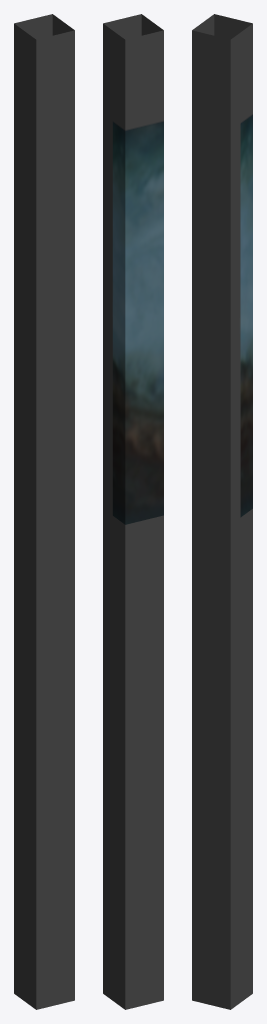
File: Pilar_High_0_25x0_25.fbx
3 renders of one model, left to right at view 1: azimuth 30°, elevation 25°; view 2: azimuth 210°, elevation 25°; view 3: azimuth 330°, elevation 25°, orthographic.
Parts seen in each view (by area): view 1: Pilar_High_0_25x0_25; view 2: Pilar_High_0_25x0_25; view 3: Pilar_High_0_25x0_25.
Boxes of the visible parts, <box> form: Pilar_High_0_25x0_25: <box>14,14,74,1009</box>; Pilar_High_0_25x0_25: <box>103,14,163,1009</box>; Pilar_High_0_25x0_25: <box>192,14,252,1009</box>.
Bounding box in the file's own units: 25 × 600 × 25.
